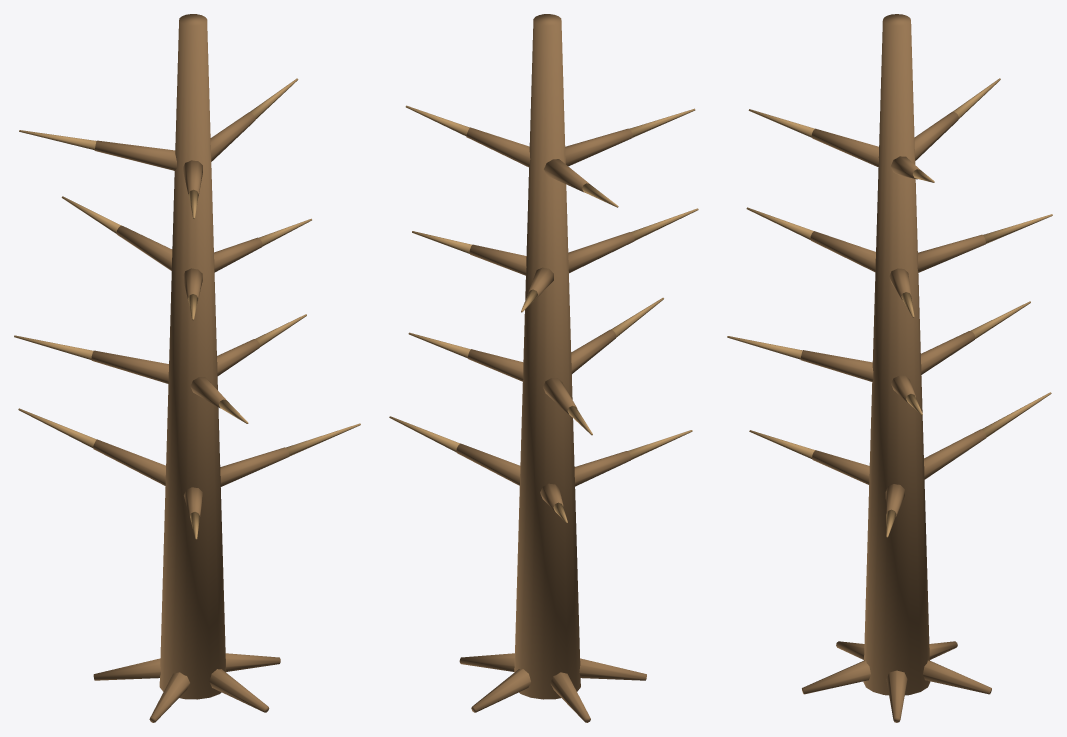
File: dry_tree.glb
3 views of the same model, side by side, from view 1: azimuth 30°, elevation 25°; view 2: azimuth 150°, elevation 25°; view 3: azimuth 270°, elevation 25° (orthographic).
Parts seen in each view (by area): view 1: dry_tree_trunk, dry_tree_branch_3_1_a, dry_tree_branch_1_1_a, dry_tree_branch_0_1_a, dry_tree_branch_0_0_a, root_4, dry_tree_branch_2_1_a, root_2, dry_tree_branch_3_0_a, root_3, dry_tree_branch_2_0_a, root_0 (+2 smaller); view 2: dry_tree_trunk, dry_tree_branch_3_2_a, dry_tree_branch_2_2_a, dry_tree_branch_3_0_a, dry_tree_branch_0_0_a, root_1, root_3, dry_tree_branch_2_0_a, dry_tree_branch_0_2_a, dry_tree_branch_1_0_a, root_2, dry_tree_branch_1_2_a (+3 smaller); view 3: dry_tree_trunk, dry_tree_branch_1_2_a, dry_tree_branch_2_1_a, dry_tree_branch_3_2_a, dry_tree_branch_2_2_a, dry_tree_branch_0_1_a, root_4, root_1, dry_tree_branch_1_1_a, dry_tree_branch_0_2_a, dry_tree_branch_3_1_a, root_0.
Boxes of the visible parts, x1,y1,x2,y2 form: dry_tree_trunk: (159,14,226,699); dry_tree_branch_3_1_a: (94,140,176,170); dry_tree_branch_1_1_a: (91,350,168,383); dry_tree_branch_0_1_a: (93,439,165,485); dry_tree_branch_0_0_a: (220,447,289,486); root_4: (209,669,269,712); dry_tree_branch_2_1_a: (116,225,172,270); root_2: (93,658,160,680); dry_tree_branch_3_0_a: (210,112,255,161); root_3: (149,672,189,722); dry_tree_branch_2_0_a: (214,237,262,272); root_0: (225,653,280,671); dry_tree_trunk: (514,14,580,699); dry_tree_branch_3_2_a: (565,128,632,166); dry_tree_branch_2_2_a: (568,232,634,273); dry_tree_branch_3_0_a: (466,127,530,167); dry_tree_branch_0_0_a: (456,443,520,485); root_1: (471,669,530,712); root_3: (579,658,646,680); dry_tree_branch_2_0_a: (469,244,526,275); dry_tree_branch_0_2_a: (574,451,631,486); dry_tree_branch_1_0_a: (468,349,523,381); root_2: (550,672,590,722); dry_tree_branch_1_2_a: (571,330,616,373); dry_tree_trunk: (863,14,930,695); dry_tree_branch_1_2_a: (800,350,873,381); dry_tree_branch_2_1_a: (917,234,985,272); dry_tree_branch_3_2_a: (811,128,878,167); dry_tree_branch_2_2_a: (810,231,875,271); dry_tree_branch_0_1_a: (924,429,986,479); root_4: (802,660,870,694); root_1: (923,660,991,694); dry_tree_branch_1_1_a: (921,331,975,374); dry_tree_branch_0_2_a: (812,450,869,484); dry_tree_branch_3_1_a: (914,111,958,160); root_0: (886,670,907,722).
Bounding box in the file's own units: 2.31 × 5.16 × 2.3.
